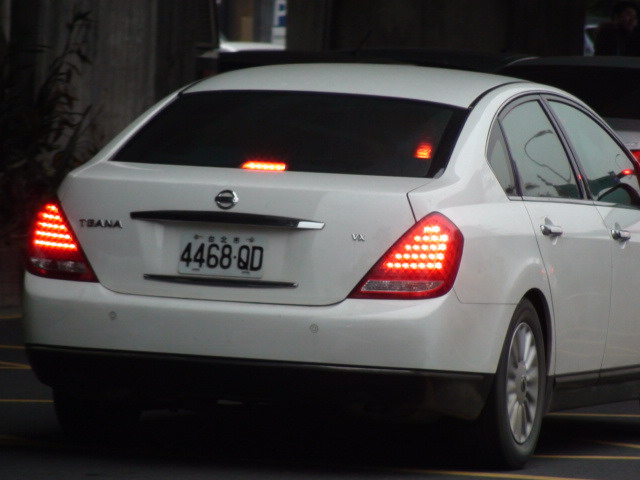plate: (175, 228, 269, 279)
